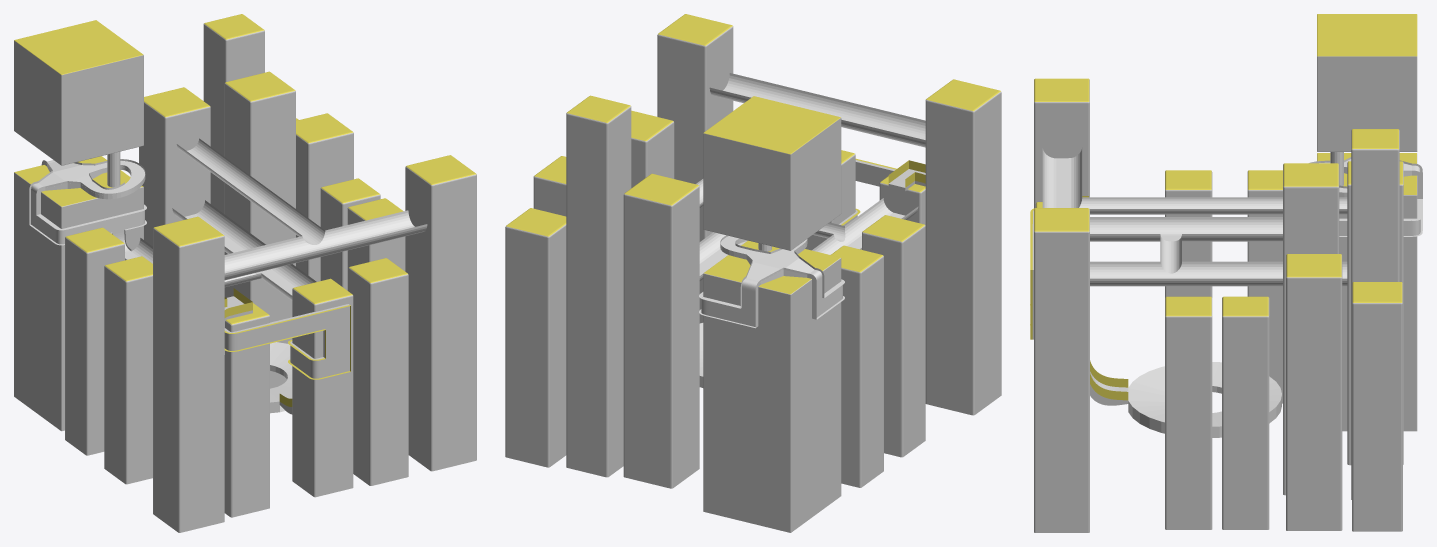
The model's file is SM_Fishville_Floor0.fbx.
The picture shows the model from 3 angles, left to right: view 1: azimuth 30°, elevation 25°; view 2: azimuth 150°, elevation 25°; view 3: azimuth 270°, elevation 25°; orthographic projection. The views are drawn at different scales.
Parts seen in each view (by area): view 1: Building_003, Building_013, Building_013.001, Building_013.009, Building_013.002, Building_013.010, Building_001, Building_013.011, Building_002, City_water_004, Building_013.004, Building_013.003 (+9 smaller); view 2: Building_003, Building_013, Building_013.004, Building_013.003, Building_013.007, Building_013.010, Building_013.011, Building_013.001, City_water_004, City_water_003, Building_013.002, City_water_002 (+6 smaller); view 3: Building_013.001, Building_003, Building_013.008, Building_013.007, Building_013.005, Building_013.006, City_water_002, Building_013.003, Building_013.002, City_water_004, Building_013, Building_013.011 (+7 smaller).
Part boxes in pixels (bbox=[...]): Building_003: bbox=[14, 20, 143, 431]; Building_013: bbox=[153, 216, 224, 532]; Building_013.001: bbox=[405, 155, 476, 471]; Building_013.009: bbox=[348, 258, 408, 485]; Building_013.002: bbox=[224, 71, 295, 388]; Building_013.010: bbox=[104, 256, 152, 484]; Building_001: bbox=[292, 278, 353, 497]; Building_013.011: bbox=[65, 227, 124, 455]; Building_002: bbox=[224, 303, 269, 517]; City_water_004: bbox=[176, 138, 427, 280]; Building_013.004: bbox=[139, 87, 210, 246]; Building_013.003: bbox=[203, 14, 264, 213]; Building_003: bbox=[703, 96, 841, 532]; Building_013: bbox=[925, 79, 1001, 415]; Building_013.004: bbox=[623, 173, 699, 488]; Building_013.003: bbox=[566, 95, 631, 477]; Building_013.007: bbox=[505, 208, 566, 467]; Building_013.010: bbox=[862, 215, 925, 457]; Building_013.011: bbox=[831, 245, 883, 487]; Building_013.001: bbox=[657, 14, 733, 323]; City_water_004: bbox=[696, 73, 925, 207]; City_water_003: bbox=[701, 236, 842, 326]; Building_013.002: bbox=[631, 110, 674, 187]; City_water_002: bbox=[699, 198, 918, 281]; Building_013.001: bbox=[1034, 208, 1089, 532]; Building_003: bbox=[1317, 14, 1417, 431]; Building_013.008: bbox=[1286, 254, 1342, 530]; Building_013.007: bbox=[1352, 282, 1402, 531]; Building_013.005: bbox=[1165, 296, 1212, 529]; Building_013.006: bbox=[1222, 296, 1269, 529]; City_water_002: bbox=[1090, 217, 1347, 286]; Building_013.003: bbox=[1351, 129, 1399, 499]; Building_013.002: bbox=[1283, 163, 1339, 495]; City_water_004: bbox=[1042, 147, 1347, 214]; Building_013: bbox=[1034, 78, 1089, 208]; Building_013.011: bbox=[1247, 170, 1282, 403].
Size of the model in its own units: 5331 by 6099 by 5770.
